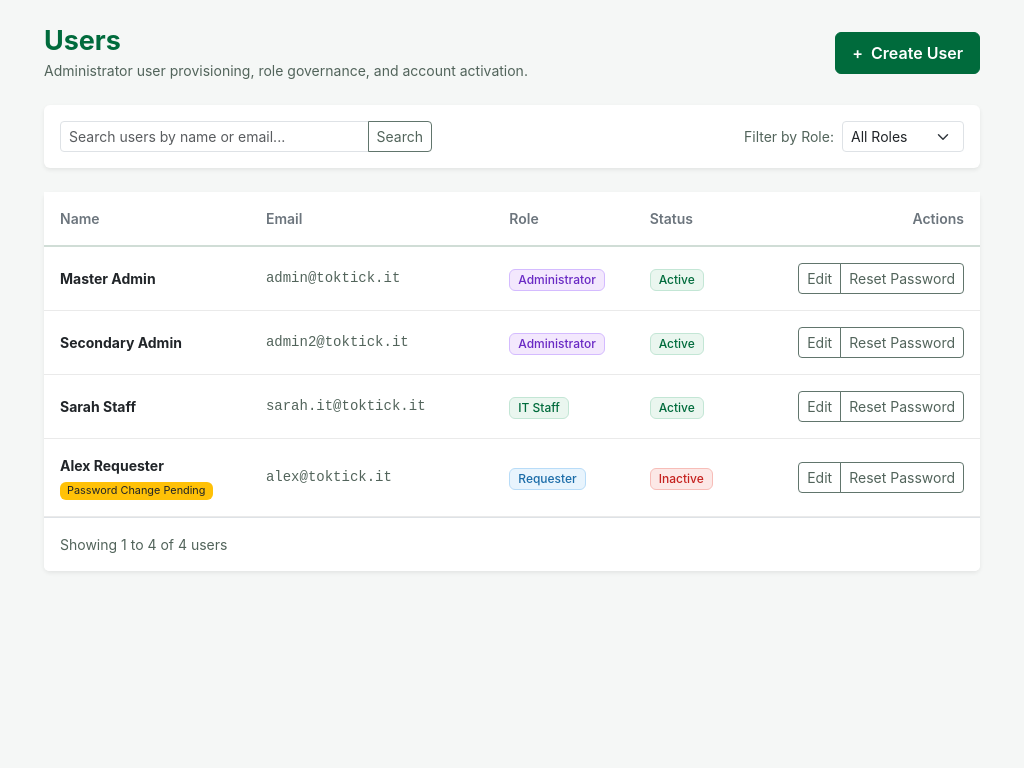
Test: UI-07 & UI-08: Administrator User Management & Safety Guards › enforces self-deactivation safety guard (BR-24) in edit user modal
The width and height of the screenshot is (1024, 768).
Step 1. Click the button with aria-label "edit master admin" → (820, 279), box [798,263,841,294]
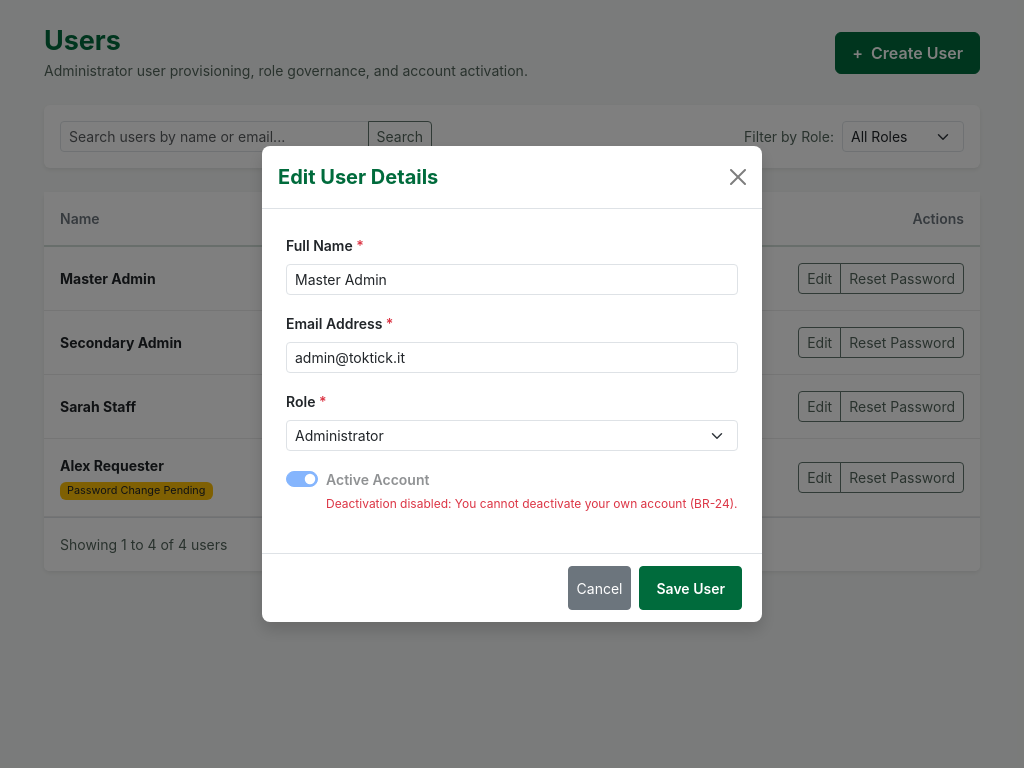
Expected: the heading "Edit User Details" is shown, [278,162,438,192]
Expected: the switch labelled "Active Account" is disabled, [286,471,318,487]
Expected: the text "You cannot deactivate your own account (BR-24)" is shown, [326,496,738,511]
